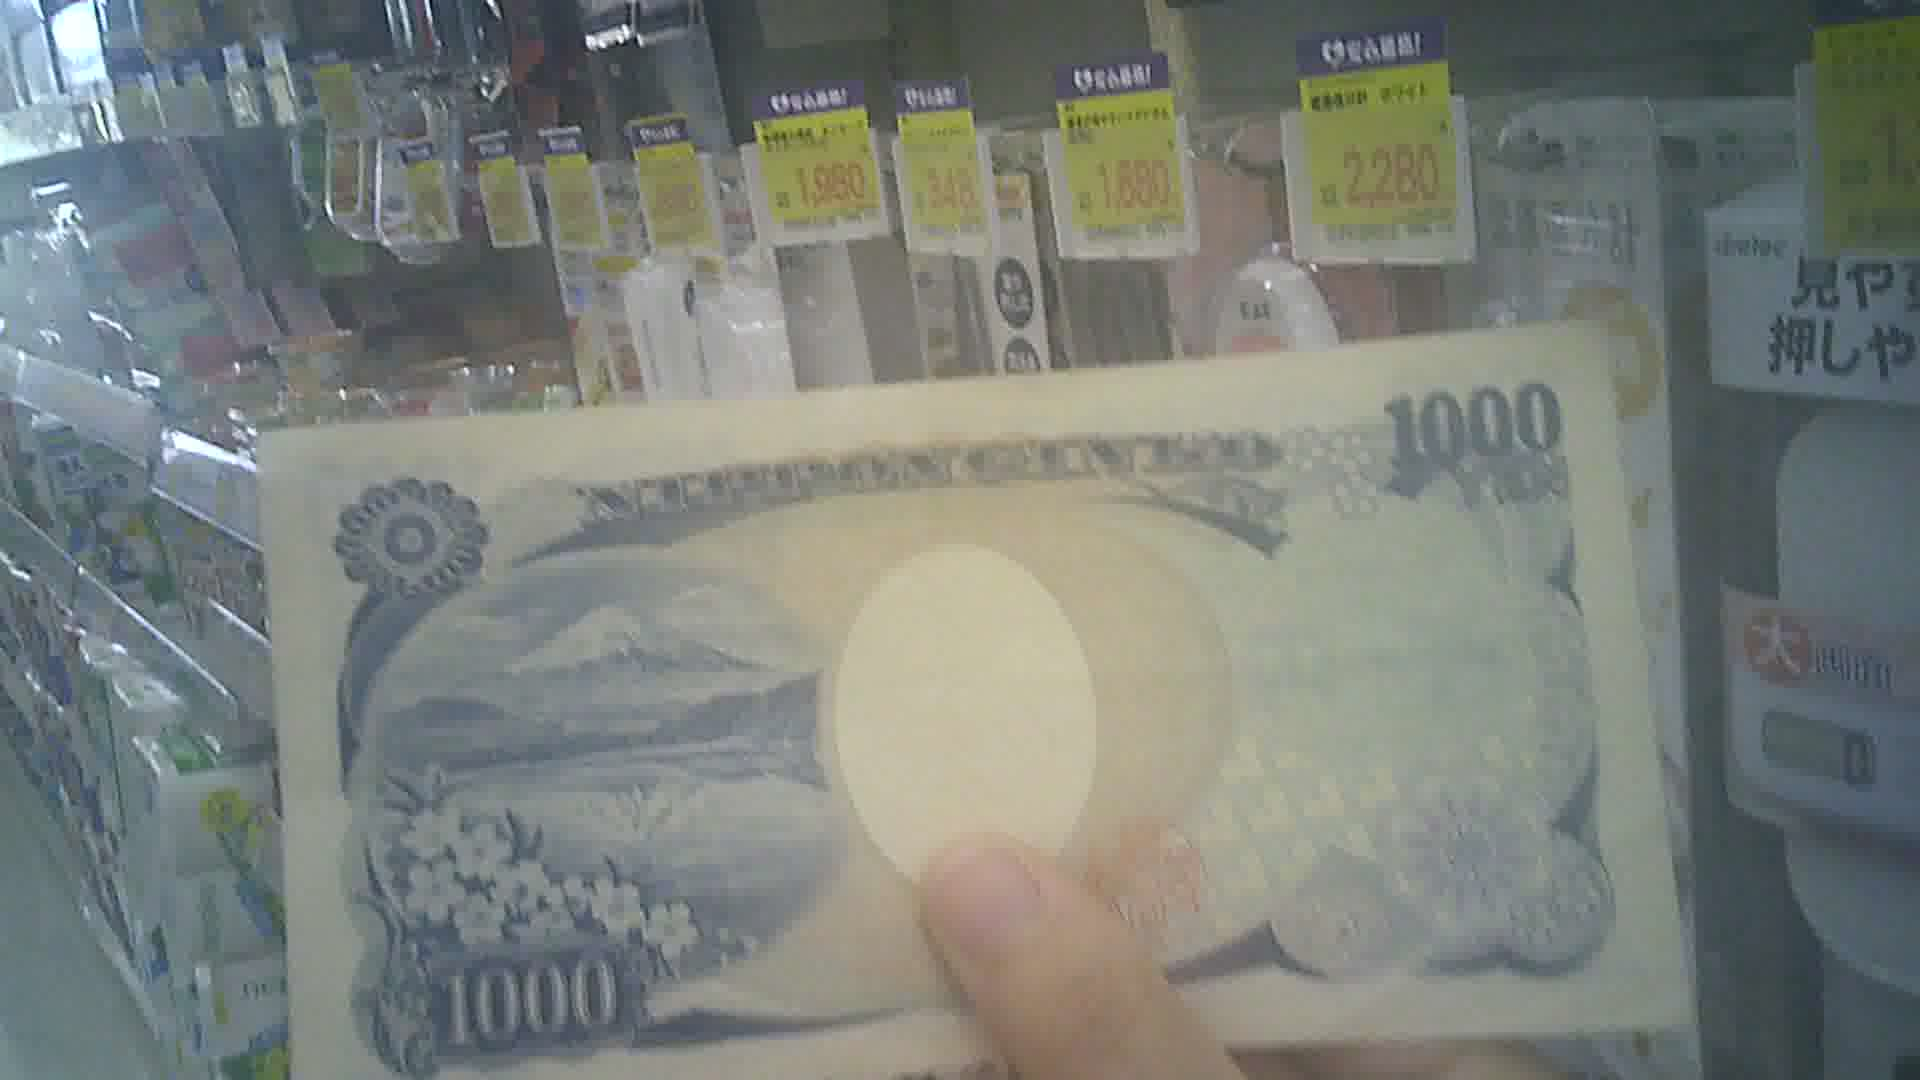1,000 Yen: (256, 340, 1675, 1079)
